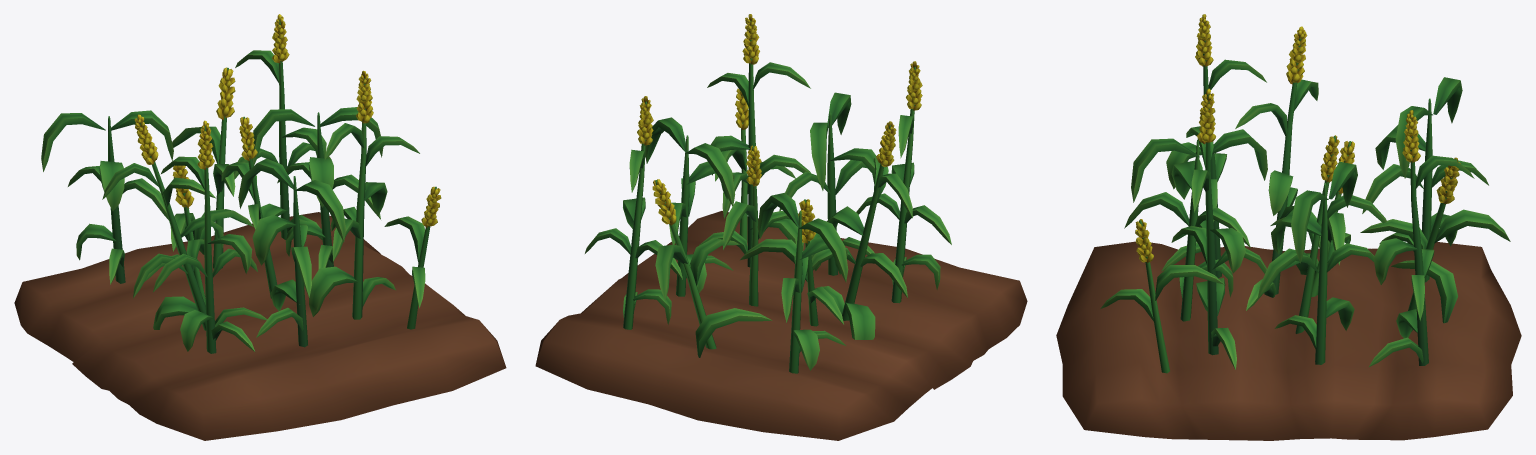
File: SM_PlantSoil_Wheat_Lv3.fbx
3 views of the same model, side by side, from view 1: azimuth 30°, elevation 25°; view 2: azimuth 150°, elevation 25°; view 3: azimuth 270°, elevation 25° (orthographic). The views are drawn at different scales.
Parts seen in each view (by area): view 1: SM_PlantSoil_Wheat_Lv3; view 2: SM_PlantSoil_Wheat_Lv3; view 3: SM_PlantSoil_Wheat_Lv3.
Part boxes in pixels (x1,y1,x2,y2): SM_PlantSoil_Wheat_Lv3: (14, 14, 506, 440); SM_PlantSoil_Wheat_Lv3: (535, 14, 1027, 440); SM_PlantSoil_Wheat_Lv3: (1056, 14, 1521, 440).
Size of the model in its own units: 96.14 by 75.34 by 103.
